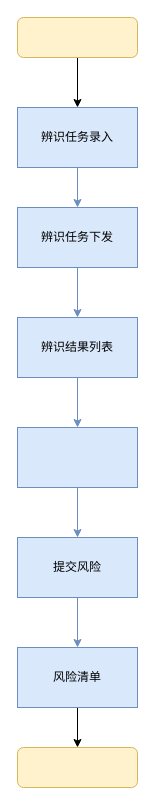
Image size: 155x805. Some labels were removed from this diagram. Each missing label, with the centre of its shape:
"开始" goes at pixel 77 37.
"结束" goes at pixel 77 767.
"风险录入" goes at pixel 77 457.
